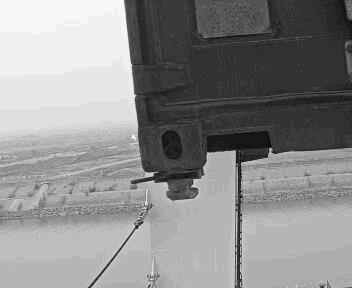twist_lock_1: (139, 167, 204, 211)
